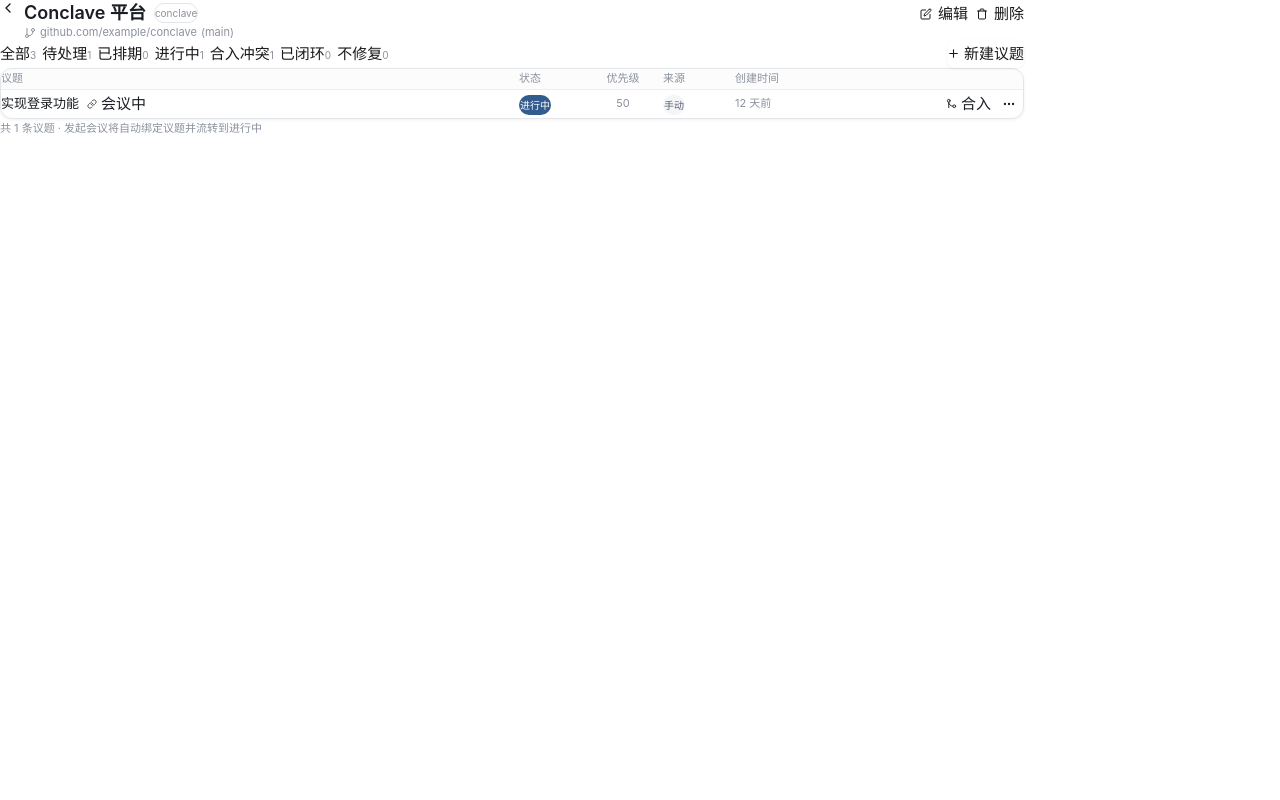
Test case: ProjectDetailPage 合入入口（ADR-017 D11） › 执行遇 409 冲突 → 展示冲突清单并收起确认按钮（非正向）
Expected: the text "实现登录功能" is shown, [1, 94, 79, 113]
Click the button "合入".
click(968, 104)  # box [946, 90, 991, 118]
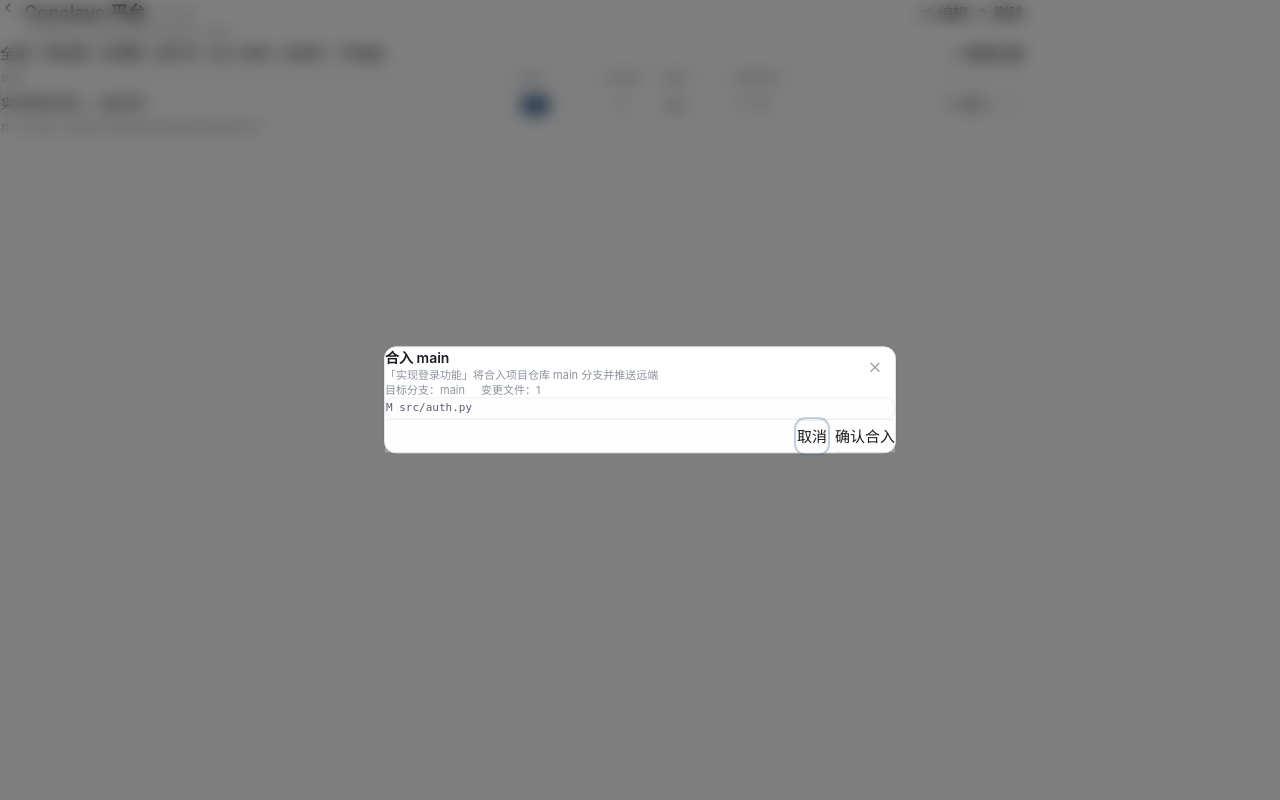
Now the button "确认合入" is shown
Click the button "确认合入".
click(865, 437)  # box [835, 421, 895, 453]
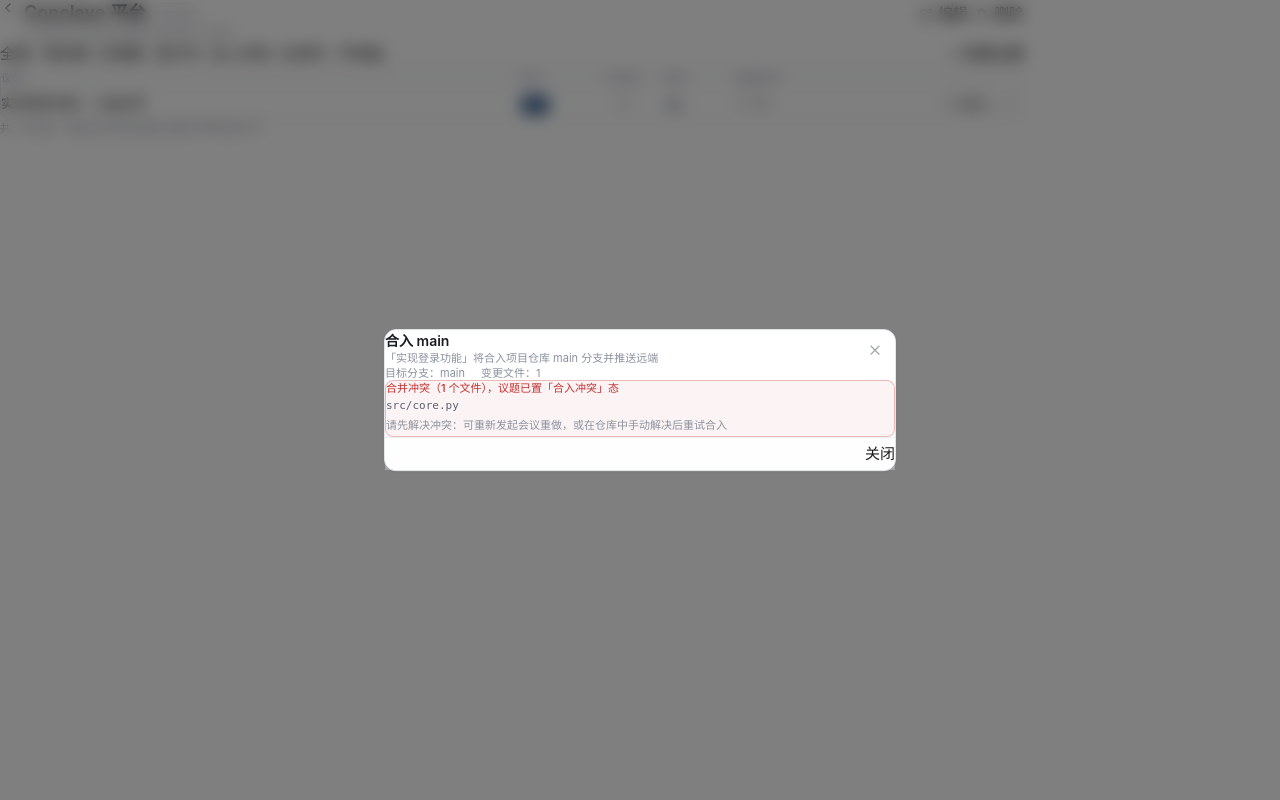
Now the text "src/core.py" is shown, box [386, 399, 459, 412]
Now the button "确认合入" is gone
